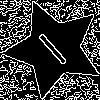I: (28, 23, 71, 68)
